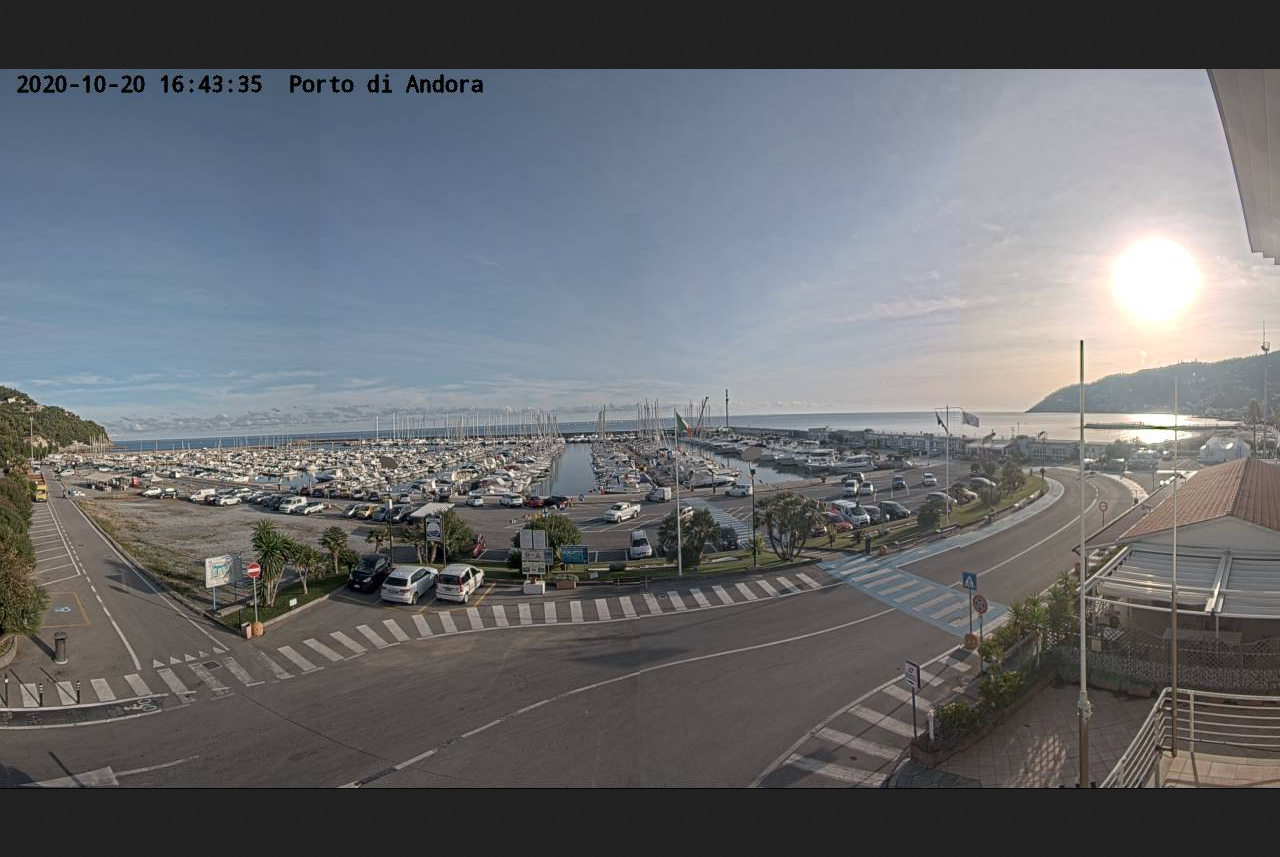maybe: (673, 410, 695, 436), (933, 412, 950, 434)
yes: (960, 411, 982, 429)
